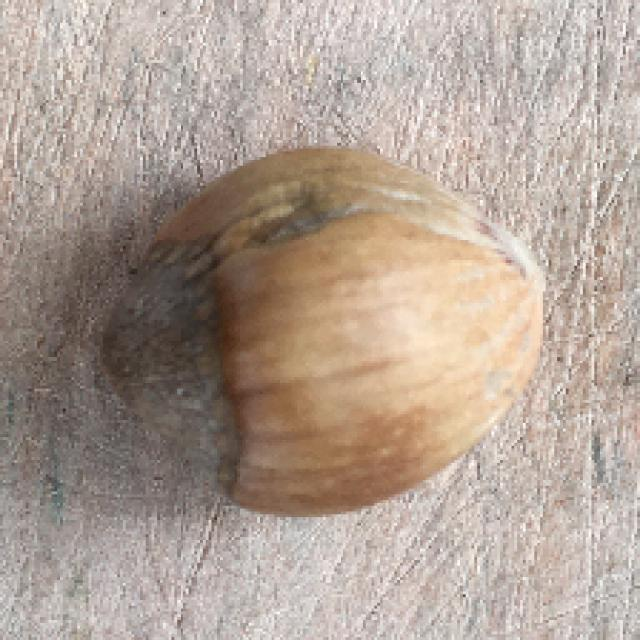damagedHazelnut: (95, 136, 556, 522)
